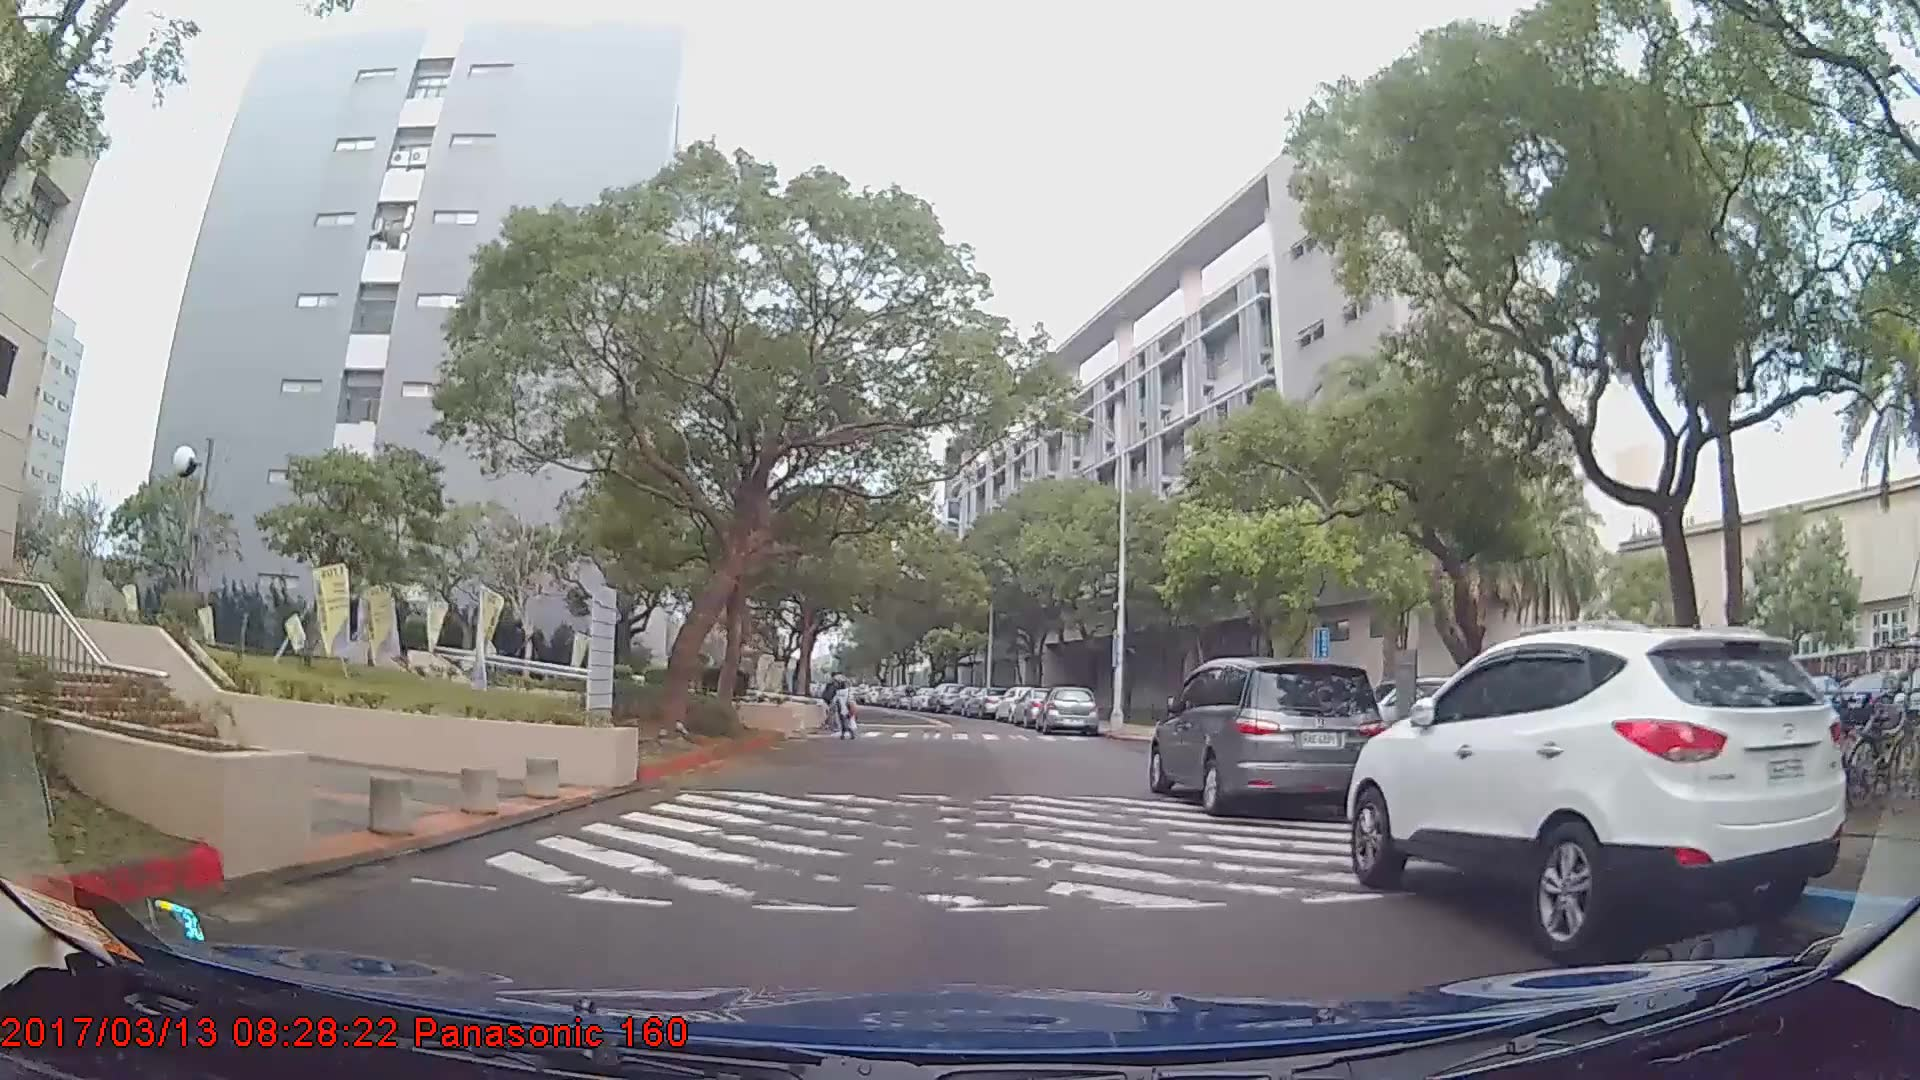pedestrian: (830, 681, 861, 744), (821, 670, 846, 729)
vehicle: (1349, 622, 1847, 960), (1149, 655, 1388, 820), (1829, 668, 1915, 731), (1041, 683, 1099, 735), (926, 681, 964, 713), (966, 688, 1007, 718)
